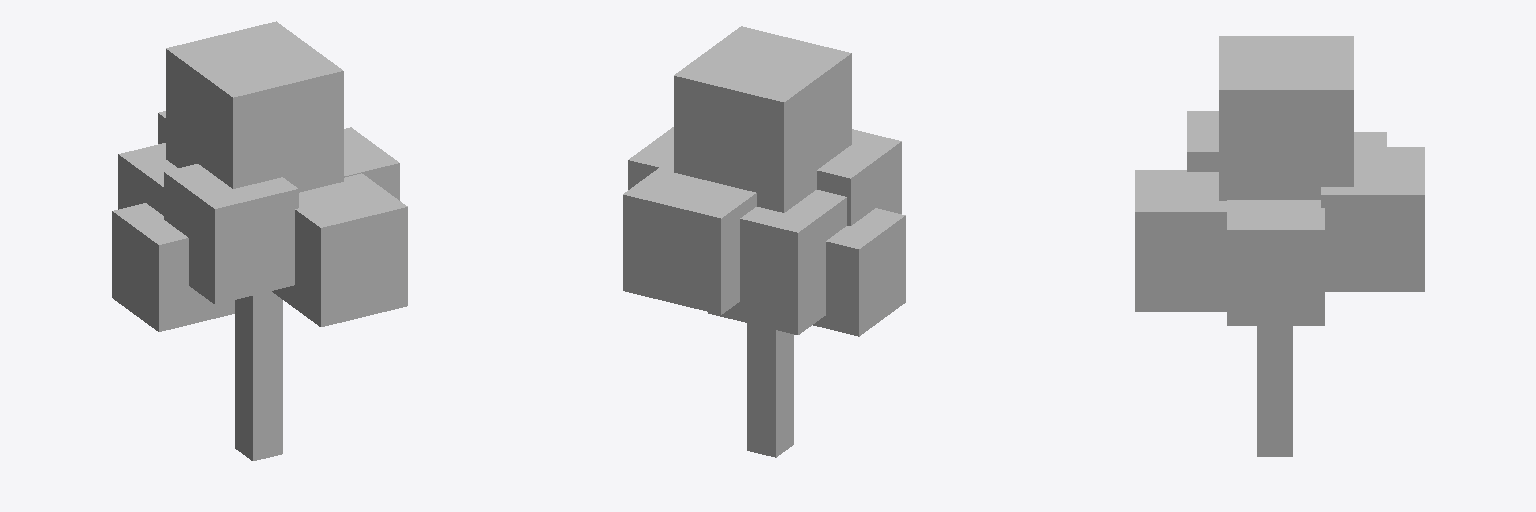
The model's file is arbolito.obj.
The picture shows the model from 3 angles: view 1: azimuth 30°, elevation 25°; view 2: azimuth 150°, elevation 25°; view 3: azimuth 270°, elevation 25°; orthographic projection.
Visible parts, largest first — view 1: tree_medium_mesh; view 2: tree_medium_mesh; view 3: tree_medium_mesh.
Part boxes in pixels (bbox=[...]): tree_medium_mesh: bbox=[112, 21, 407, 460]; tree_medium_mesh: bbox=[623, 26, 905, 457]; tree_medium_mesh: bbox=[1135, 36, 1424, 456].
Size of the model in its own units: 2.83 by 4.45 by 3.01.